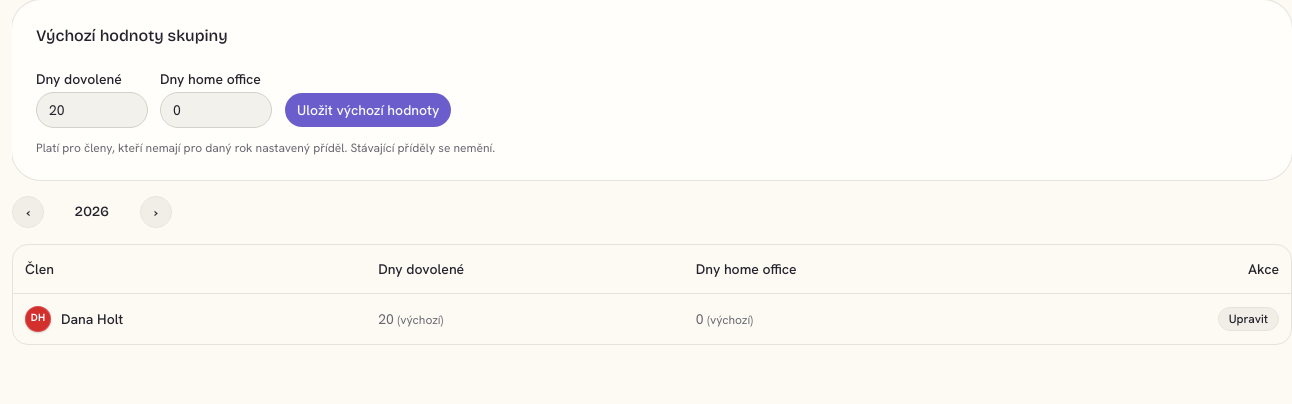
Test: group detail saves refused by a plan limit › explains a refused member quota save in the user's language
Step 1. Click the button "Upravit" → (1248, 318), box 1218,306 -> 1279,330
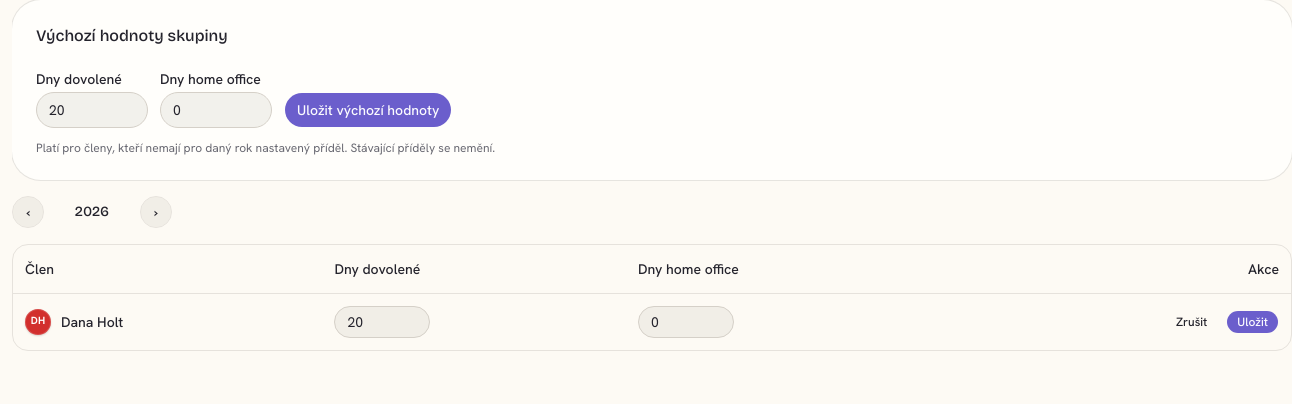
Step 2. Click the button "Uložit" → (1253, 322), box 1226,310 -> 1279,334
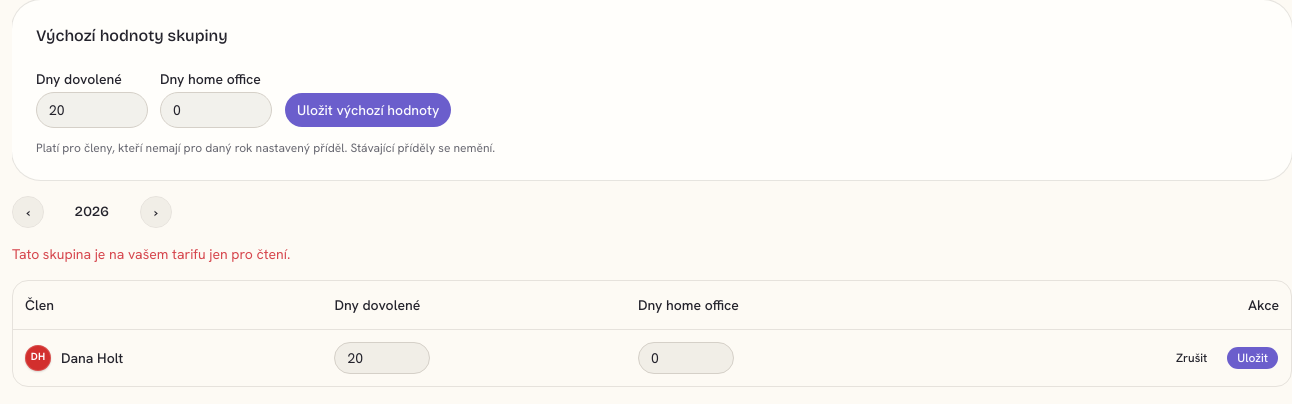
Check: the text "Tato skupina je na vašem tarifu jen pro čtení." is shown, box 12,245 -> 290,263
